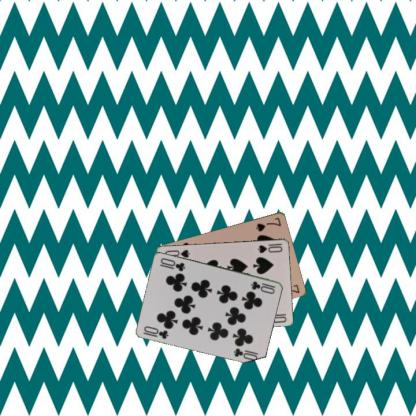10c: (248, 278, 277, 296), (142, 323, 170, 340)
10s: (255, 241, 284, 254)
7s: (254, 214, 283, 233)
